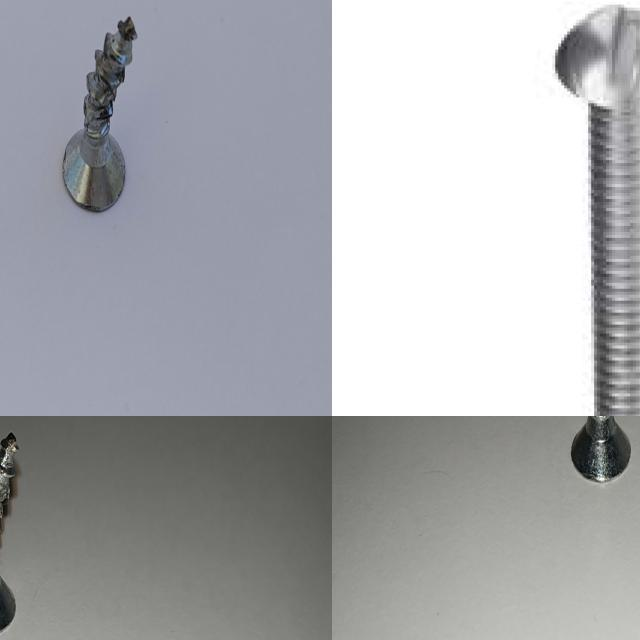Screw: (555, 5, 640, 416), (63, 16, 138, 211), (571, 416, 631, 482)
